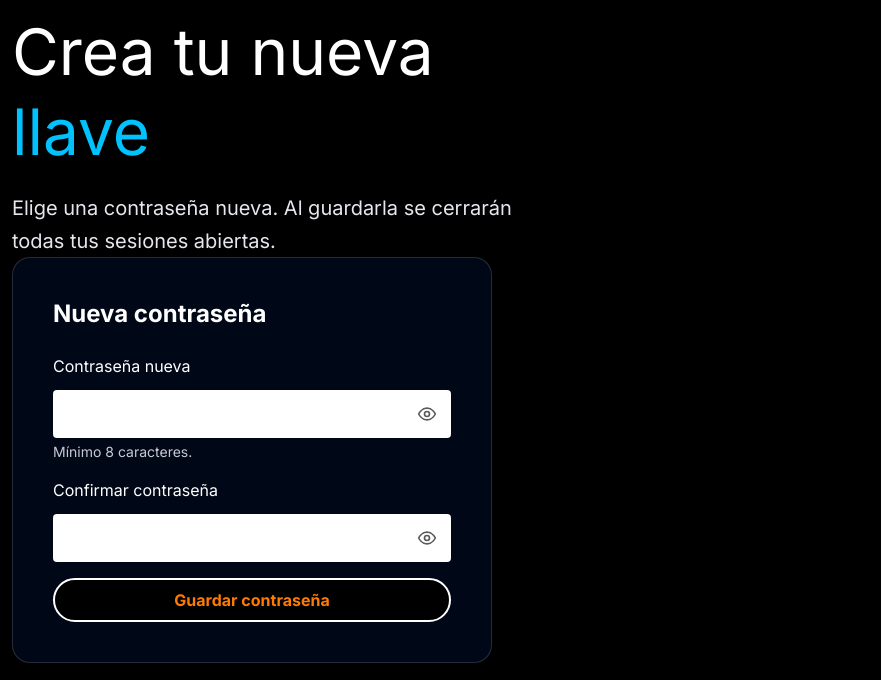
Test: ResetPassword › switches to the expired state on INVALID_EMAIL_TOKEN
Type "nuevaclave" into the password field labelled "Contraseña nueva".
click(252, 414); type("nuevaclave")  # box [53,390,451,438]
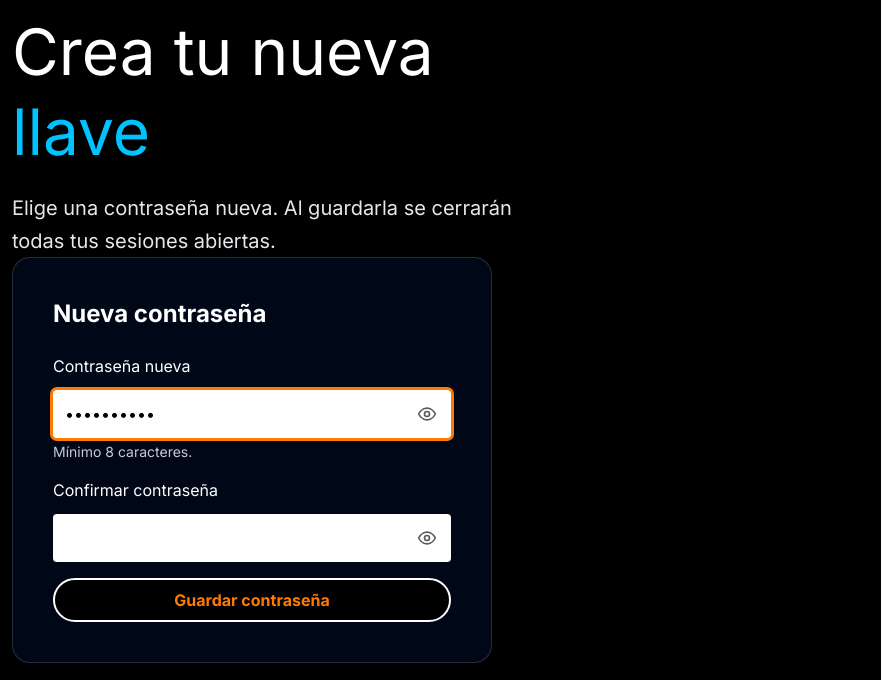
Type "nuevaclave" into the password field labelled "Confirmar contraseña".
click(252, 538); type("nuevaclave")  # box [53,514,451,562]
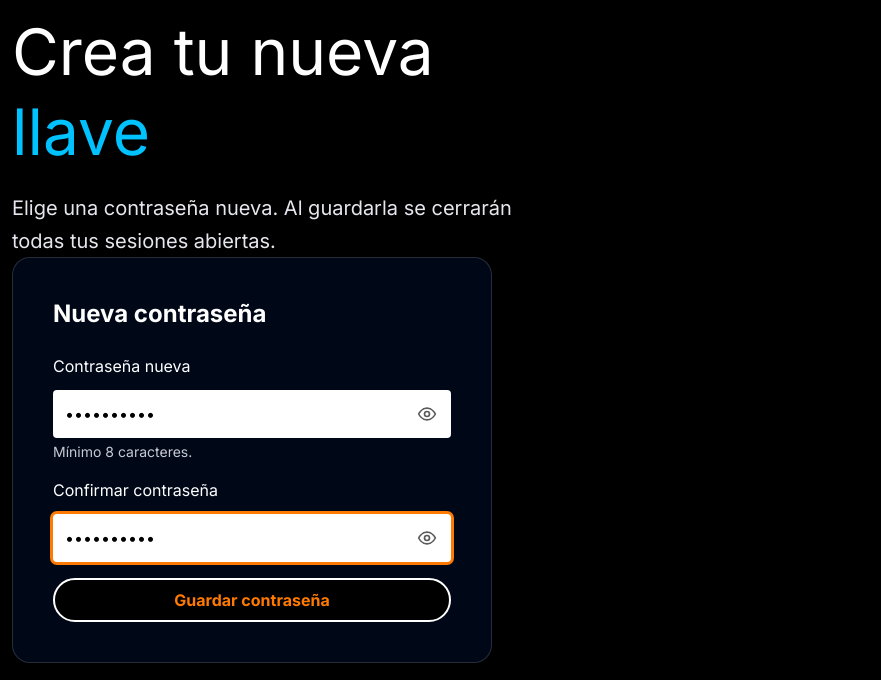
Click the button "Guardar contraseña".
click(252, 600)  # box [53,578,451,622]
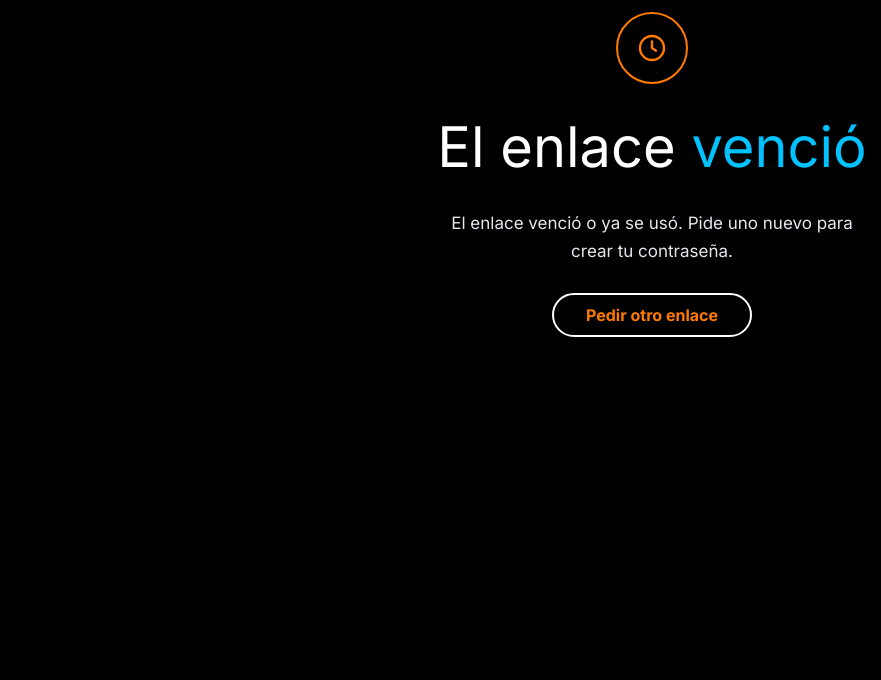
Now the message shows "El enlace venció o ya se usó", box [451,213,853,261]
